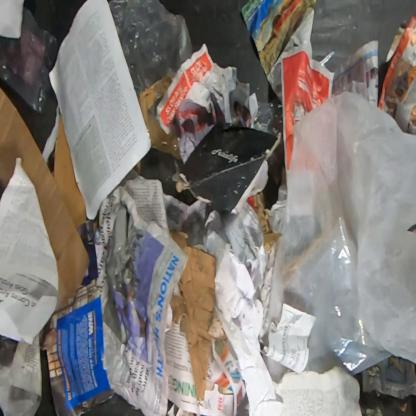cardboard: (0, 88, 91, 314), (167, 229, 229, 402), (54, 111, 87, 230)
soft_plastic: (270, 88, 415, 374), (108, 0, 194, 160), (0, 6, 58, 114), (312, 44, 361, 97), (254, 96, 283, 136)
